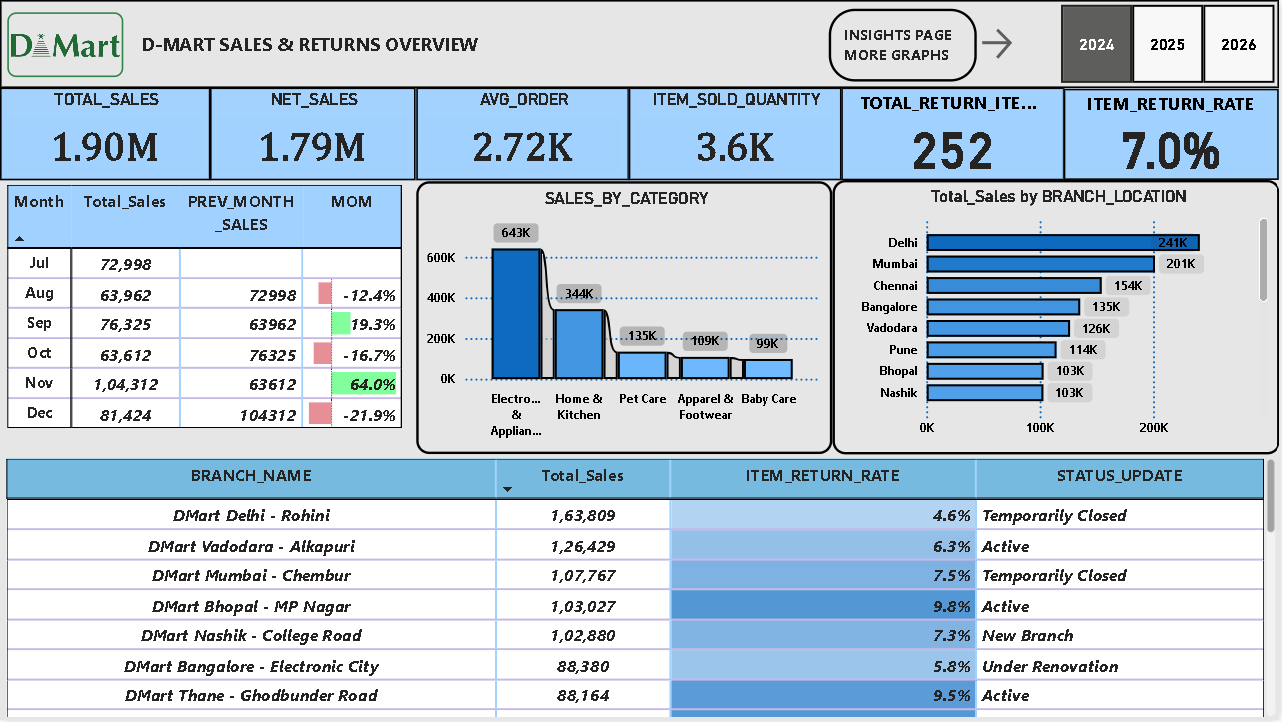

The dashboard page shown, as its layout file describes it:
{"tool":"powerbi","page":{"name":"SALES OVERVIEW","canvas":[1280,720],"ordinal":0},"visuals":[{"type":"textbox","box":[0,0,1280,87.7],"z":0,"group":"g1"},{"type":"cardVisual","title":"TOTAL_SALES","fields":{"Data":["dmart_db order_item_table.Total_Sales"]},"box":[0,87.1,210,92.9],"z":0},{"type":"advancedSlicerVisual","title":"SLICER : YEAR","fields":{"Values":["dim_date.Year"]},"box":[1055.6,0,224.4,88.1],"z":1000,"group":"g1"},{"type":"cardVisual","title":"AVG_ORDER","fields":{"Data":["dmart_db order_item_table.AVG_ORDER"]},"box":[415.7,87.1,212.9,92.9],"z":1000},{"type":"image","box":[2.9,7.1,125.7,74.3],"z":2000,"group":"g1"},{"type":"pivotTable","fields":{"Values":["dmart_db order_item_table.Total_Sales","dmart_db order_item_table.PREV_MONTH_SALES","dmart_db order_item_table.MOM"],"Rows":["dim_date.Month"]},"box":[2.4,179.8,413.8,271.4],"z":2000},{"type":"cardVisual","title":"ITEM_SOLD_QUANTITY","fields":{"Data":["dmart_db order_item_table.TOTAL_QUANTITY_SOLD"]},"box":[628.6,87.1,212.9,92.9],"z":3000},{"type":"cardVisual","fields":{"Data":["dmart_db order_item_table.TOTAL_RETURN_ITEMS"]},"box":[841.4,87.1,222.9,92.9],"z":4000},{"type":"cardVisual","title":"NET_SALES","fields":{"Data":["dmart_db order_table.NET_SALES"]},"box":[210,87.1,205.7,92.9],"z":5000},{"type":"cardVisual","fields":{"Data":["dmart_db order_item_table.ITEM_RETURN_RATE"]},"box":[1064.3,88.6,215.7,91.4],"z":6000},{"type":"columnChart","title":"SALES_BY_CATEGORY","fields":{"Y":["dmart_db order_item_table.Total_Sales"],"Category":["dmart_db category_table.CATEGORY_NAME"]},"box":[416.2,181,416.2,272.7],"z":7000},{"type":"barChart","fields":{"Category":["dmart_db branch_table.BRANCH_LOCATION"],"Y":["dmart_db order_item_table.Total_Sales"]},"box":[832,179.5,448,274.1],"z":8000},{"type":"tableEx","fields":{"Values":["dmart_db branch_table.BRANCH_NAME","dmart_db order_item_table.Total_Sales","dmart_db order_item_table.ITEM_RETURN_RATE","dmart_db status_table.STATUS_UPDATE"]},"box":[0,453.6,1280,267.1],"z":9000},{"type":"group","id":"g1","title":"Group 1","box":[0,0,1280,88.1],"z":10000},{"type":"actionButton","box":[976.4,24.2,45.6,39.9],"z":11000},{"type":"textbox","box":[828.2,8.6,148.2,72.7],"z":12000}]}

Visuals, with their boxes in screenshot pixels (x1, y1, x2, y2), scaled from the page's 1280x720 canvas onto the 1282x722 screenshot:
textbox: locate(0, 0, 1281, 88)
"TOTAL_SALES" cardVisual: locate(0, 87, 210, 180)
"SLICER : YEAR" advancedSlicerVisual: locate(1057, 0, 1281, 88)
"AVG_ORDER" cardVisual: locate(416, 87, 630, 180)
image: locate(3, 7, 129, 82)
pivotTable - dmart_db order_item_table.Total_Sales x dmart_db order_item_table.PREV_MONTH_SALES: locate(2, 180, 417, 452)
"ITEM_SOLD_QUANTITY" cardVisual: locate(630, 87, 843, 180)
cardVisual - dmart_db order_item_table.TOTAL_RETURN_ITEMS: locate(843, 87, 1066, 180)
"NET_SALES" cardVisual: locate(210, 87, 416, 180)
cardVisual - dmart_db order_item_table.ITEM_RETURN_RATE: locate(1066, 89, 1281, 180)
"SALES_BY_CATEGORY" columnChart: locate(417, 182, 834, 455)
barChart - dmart_db branch_table.BRANCH_LOCATION x dmart_db order_item_table.Total_Sales: locate(833, 180, 1281, 455)
tableEx - dmart_db branch_table.BRANCH_NAME x dmart_db order_item_table.Total_Sales: locate(0, 455, 1281, 721)
"Group 1" group: locate(0, 0, 1281, 88)
actionButton: locate(978, 24, 1024, 64)
textbox: locate(829, 9, 978, 82)
